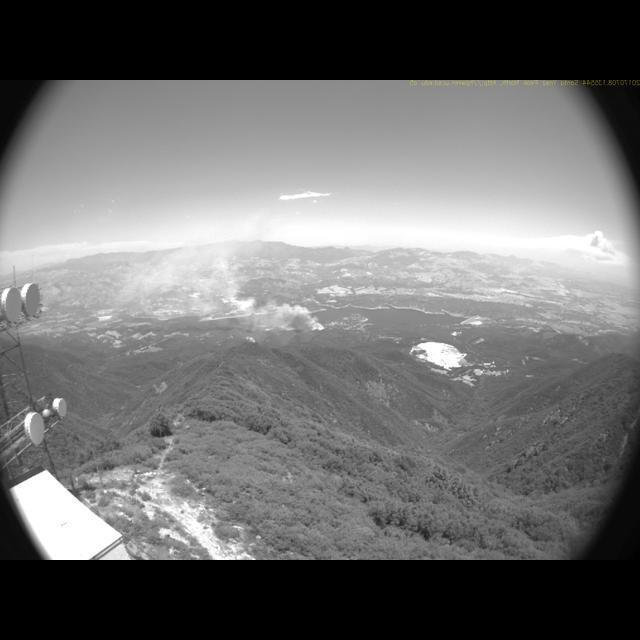Smoke: (100, 230, 324, 338)
